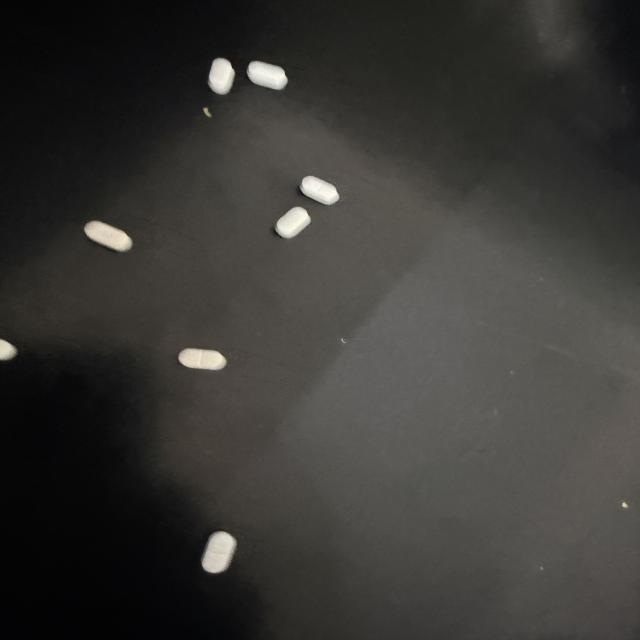pill: (202, 531, 236, 573), (85, 221, 132, 251), (247, 61, 287, 89), (300, 176, 339, 204), (275, 207, 310, 238), (179, 349, 226, 370), (209, 58, 234, 94), (0, 339, 17, 360)
